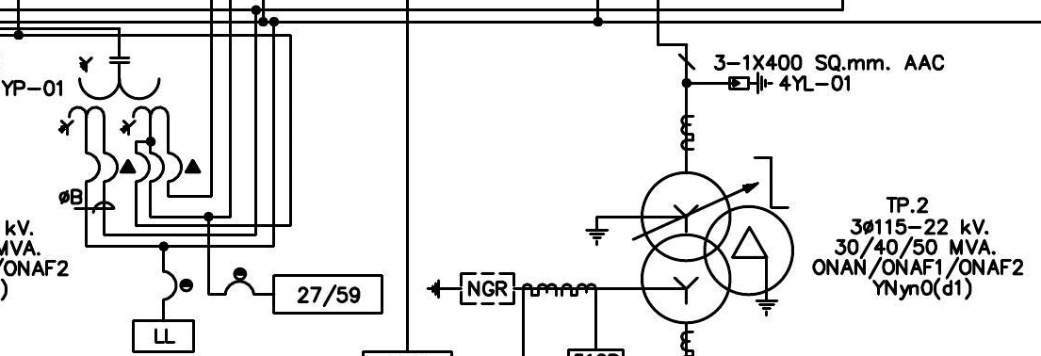11522_tx_ynyn0d1: (638, 171, 795, 325)
115_cvt_3p: (57, 56, 170, 137)
115_la: (728, 71, 774, 95)
LL: (132, 319, 195, 354)
NGR_future: (426, 272, 516, 306)
